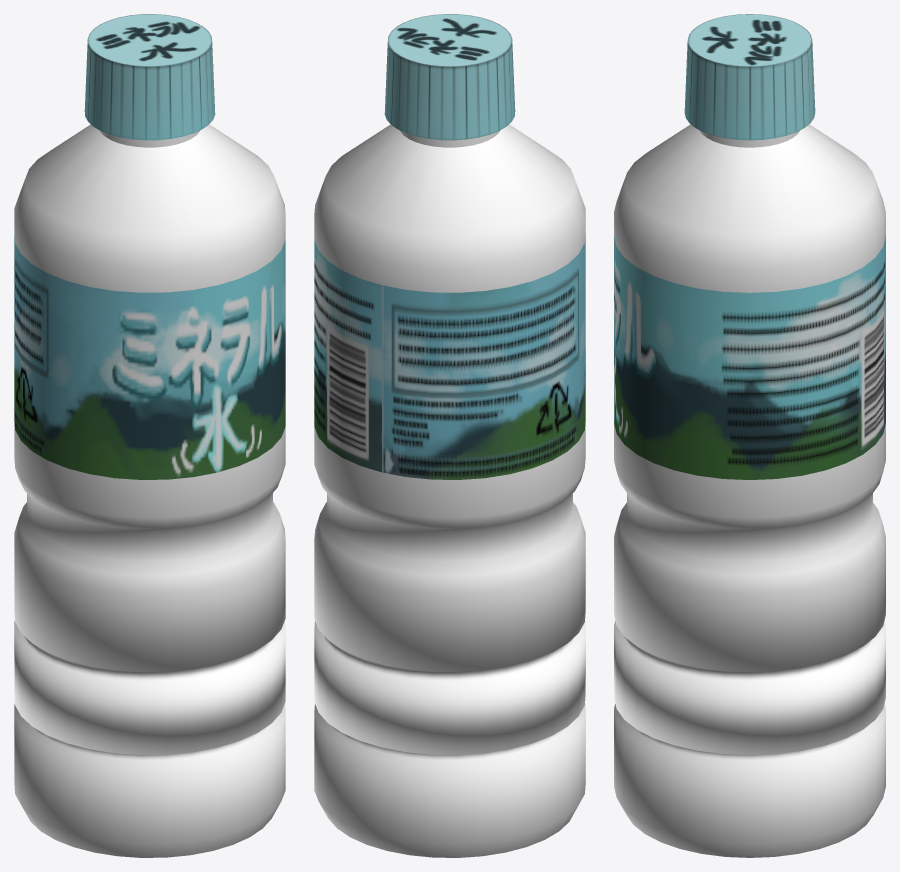
Rendered from water.obj.
The picture shows the model from 3 angles, left to right: view 1: azimuth 30°, elevation 25°; view 2: azimuth 150°, elevation 25°; view 3: azimuth 270°, elevation 25°; orthographic projection.
Visible parts, largest first — view 1: water.001; view 2: water.001; view 3: water.001.
Boxes of the visible parts, bbox=[...] form: water.001: bbox=[14, 14, 285, 857]; water.001: bbox=[314, 14, 585, 857]; water.001: bbox=[614, 14, 885, 857].
Size of the model in its own units: 0.0632 by 0.1959 by 0.0632.
1 material, 1 textured.
